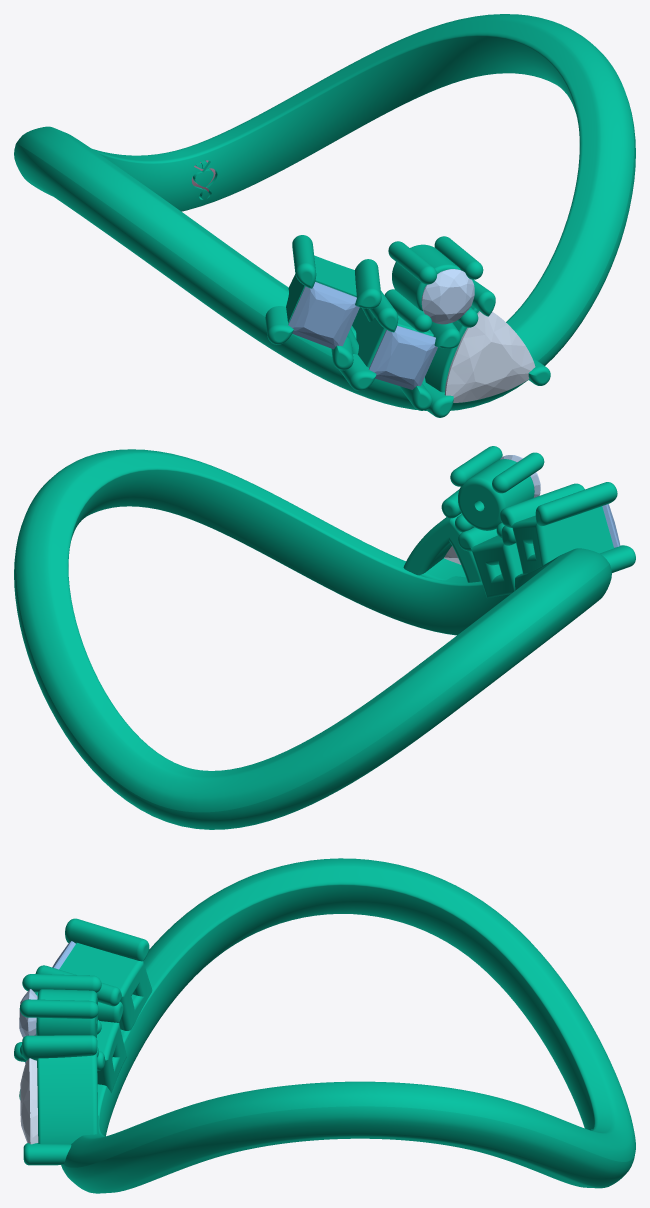
3 views of the same model, one above another, from view 1: azimuth 30°, elevation 25°; view 2: azimuth 150°, elevation 25°; view 3: azimuth 270°, elevation 25° (orthographic). The views are drawn at different scales.
Parts seen in each view (by area): view 1: The Zenith Band-LS0023-2.3dm, Diamond_Princess (×2), Diamond_Trillion Curved, Diamond_Round; view 2: The Zenith Band-LS0023-2.3dm; view 3: The Zenith Band-LS0023-2.3dm, Diamond_Trillion Curved, Diamond_Round.
Part boxes in pixels (x1=…): The Zenith Band-LS0023-2.3dm: x1=14, y1=14, x2=635, y2=417; Diamond_Princess (×2): x1=288, y1=282, x2=437, y2=389; Diamond_Trillion Curved: x1=444, y1=311, x2=535, y2=402; Diamond_Round: x1=421, y1=269, x2=474, y2=324; The Zenith Band-LS0023-2.3dm: x1=14, y1=446, x2=635, y2=829; The Zenith Band-LS0023-2.3dm: x1=14, y1=858, x2=635, y2=1193; Diamond_Trillion Curved: x1=20, y1=1058, x2=38, y2=1144; Diamond_Round: x1=19, y1=989, x2=37, y2=1037.
Size of the model in its own units: 2.65 by 0.9943 by 2.82.
